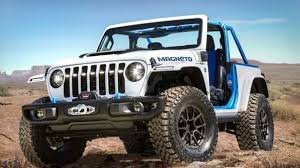mobil: (20, 14, 276, 168)
